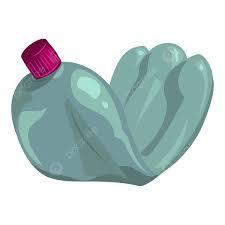plastic: (11, 38, 209, 188)
